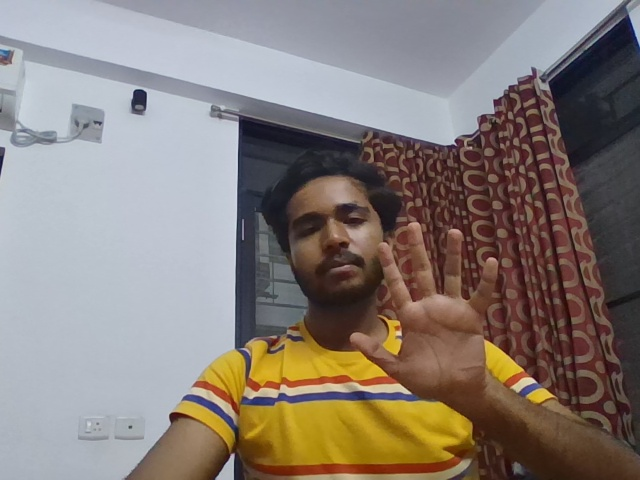Hello: (338, 217, 511, 409)
